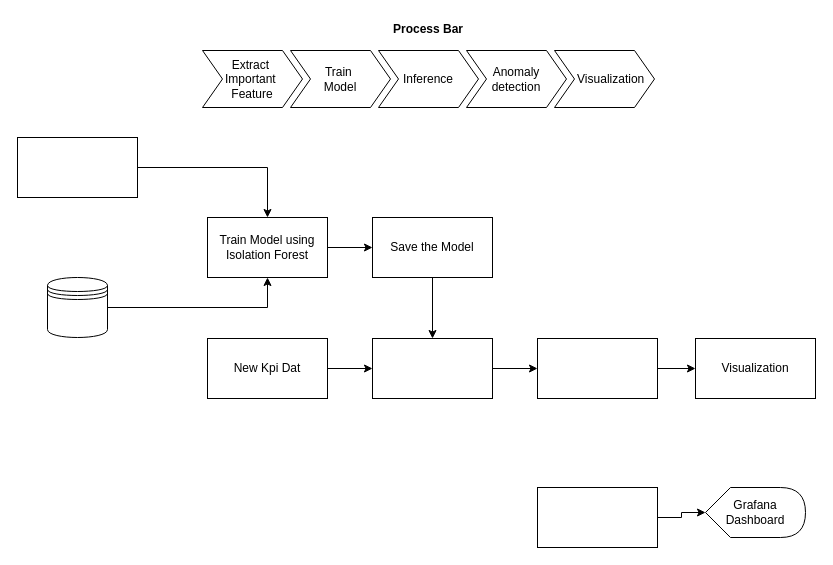
Some shapes in this 833 by 565 pixel diagram are drawn without their labels. Each missing label, with the centre of its shape:
"KPIs" belongs at [77,307].
"Load the model" belongs at [432,368].
"Push to Prometheus" belongs at [597,517].
"Save Anomaly data as csv" belongs at [597,368].
"Save the Ranked Feature to CSV" belongs at [77,167].
